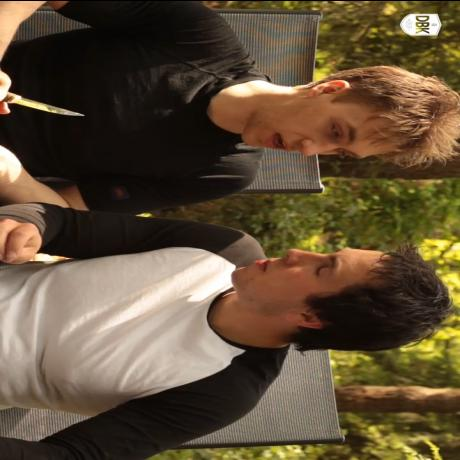1: (0, 204, 455, 460), (0, 0, 460, 208)
weapon: (14, 93, 87, 121)
